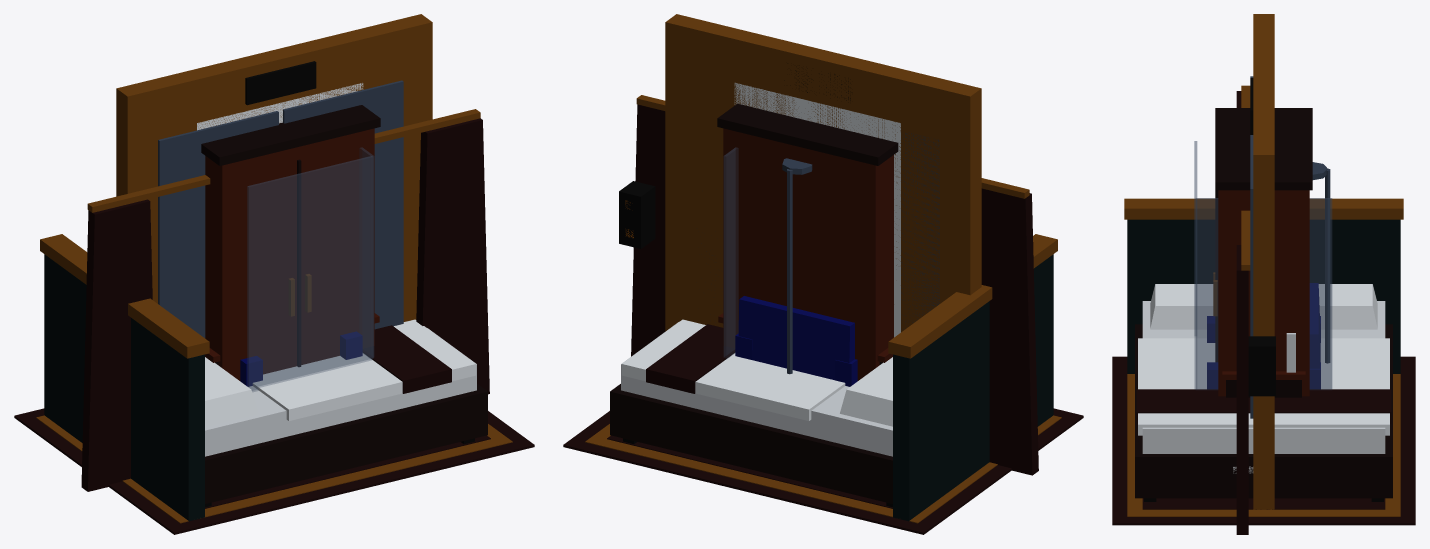
File: hotel_kit.glb
The picture shows the model from 3 angles, left to right: view 1: azimuth 30°, elevation 25°; view 2: azimuth 150°, elevation 25°; view 3: azimuth 270°, elevation 25°; orthographic projection. The views are drawn at different scales.
Visible parts, largest first — view 1: SM_HR_Bed, SM_HR_Lift, SM_HR_Wardrobe, SM_HR_Window, SM_HR_Shower_glass, SM_HR_Rug, SM_HR_Door, SM_HR_Armchair; view 2: SM_HR_Bed, SM_HR_Lift, SM_HR_Wardrobe, SM_HR_Window, SM_HR_Rug, SM_HR_Armchair, SM_HR_Door, SM_HR_Shower_glass, SM_HR_Shower; view 3: SM_HR_Bed, SM_HR_Wardrobe, SM_HR_Rug, SM_HR_Lift, SM_HR_Shower_glass, SM_HR_Window, SM_HR_Armchair, SM_HR_Shower, SM_HR_Desk, SM_HR_Sink.
Boxes of the visible parts, x1,y1,x2,y2 form: SM_HR_Bed: (40, 234, 487, 521); SM_HR_Lift: (116, 14, 432, 338); SM_HR_Wardrobe: (201, 105, 380, 380); SM_HR_Window: (81, 109, 489, 491); SM_HR_Shower_glass: (247, 147, 374, 391); SM_HR_Rug: (14, 408, 534, 534); SM_HR_Door: (197, 83, 363, 130); SM_HR_Armchair: (240, 331, 362, 386); SM_HR_Bed: (610, 234, 1057, 521); SM_HR_Lift: (619, 14, 981, 332); SM_HR_Wardrobe: (717, 103, 898, 380); SM_HR_Window: (631, 95, 1038, 475); SM_HR_Rug: (563, 408, 1083, 534); SM_HR_Armchair: (735, 296, 857, 386); SM_HR_Door: (734, 82, 900, 337); SM_HR_Shower_glass: (723, 147, 738, 359); SM_HR_Shower: (782, 158, 812, 374); SM_HR_Bed: (1124, 198, 1403, 501); SM_HR_Wardrobe: (1213, 108, 1312, 396); SM_HR_Rug: (1112, 356, 1415, 525); SM_HR_Lift: (1248, 14, 1275, 509); SM_HR_Shower_glass: (1194, 141, 1332, 389); SM_HR_Window: (1233, 85, 1253, 534); SM_HR_Armchair: (1207, 283, 1320, 389); SM_HR_Shower: (1312, 162, 1330, 363); SM_HR_Desk: (1222, 371, 1305, 397); SM_HR_Sink: (1286, 333, 1295, 372).
Size of the model in its own units: 2.9 by 2.6 by 2.
22 materials, 20 textured.
